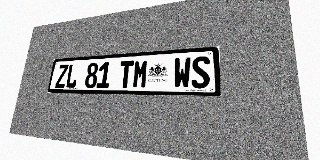1: (96, 62, 112, 88)
8: (84, 62, 99, 88)
L: (65, 64, 79, 88)
M: (132, 59, 149, 88)
S: (191, 56, 210, 88)
T: (118, 60, 134, 88)
W: (173, 57, 191, 88)
Z: (55, 64, 69, 88)
